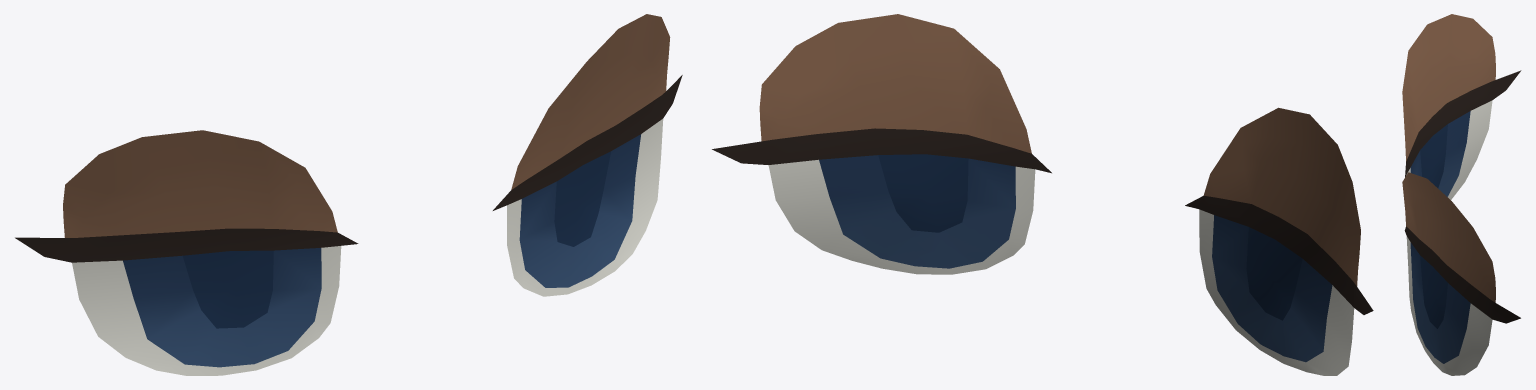
File: Eye_BlueB_4.fbx
The picture shows the model from 3 angles, left to right: view 1: azimuth 30°, elevation 25°; view 2: azimuth 150°, elevation 25°; view 3: azimuth 270°, elevation 25°; orthographic projection. The views are drawn at different scales.
Visible parts, largest first — view 1: Eye_BlueB_4; view 2: Eye_BlueB_4; view 3: Eye_BlueB_4.
Part boxes in pixels (x1,y1,x2,y2): Eye_BlueB_4: (15, 14, 682, 375); Eye_BlueB_4: (712, 14, 1373, 375); Eye_BlueB_4: (1402, 14, 1521, 375).
Size of the model in its own units: 41.23 by 14.98 by 8.38.
